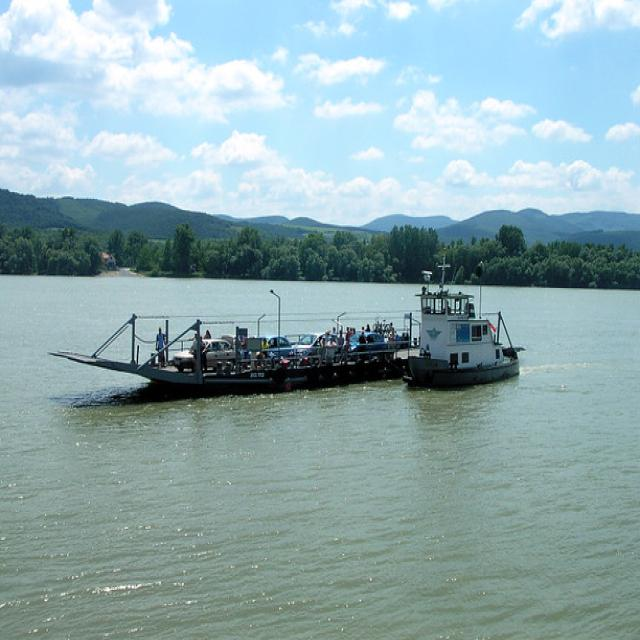houseboat: (405, 281, 527, 389)
